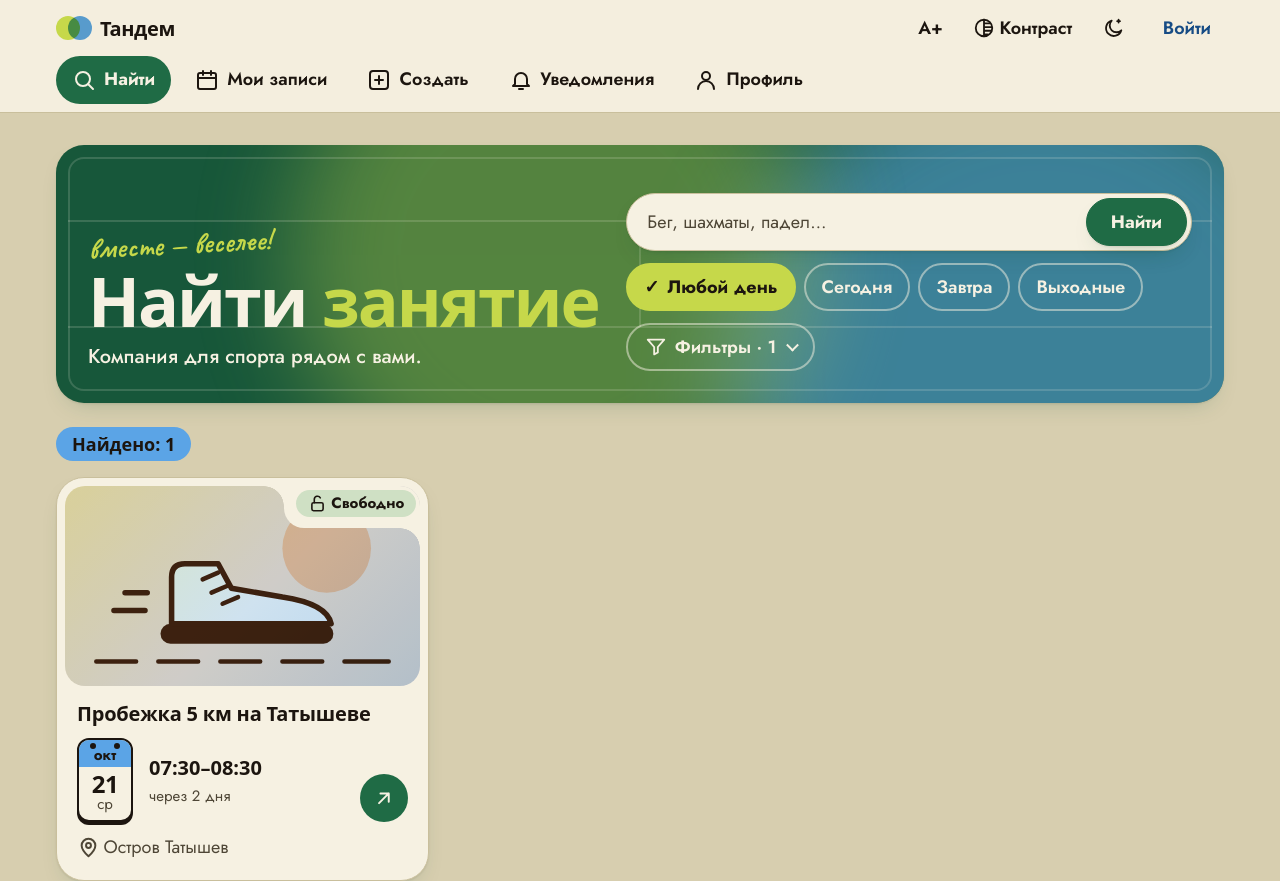
it: лента и поиск › направление из адреса: в запросе id, в поле — название
This screenshot has width=1280, height=881.
Click the heading "Фильтры · 1": (721, 347) [626,323,815,371]
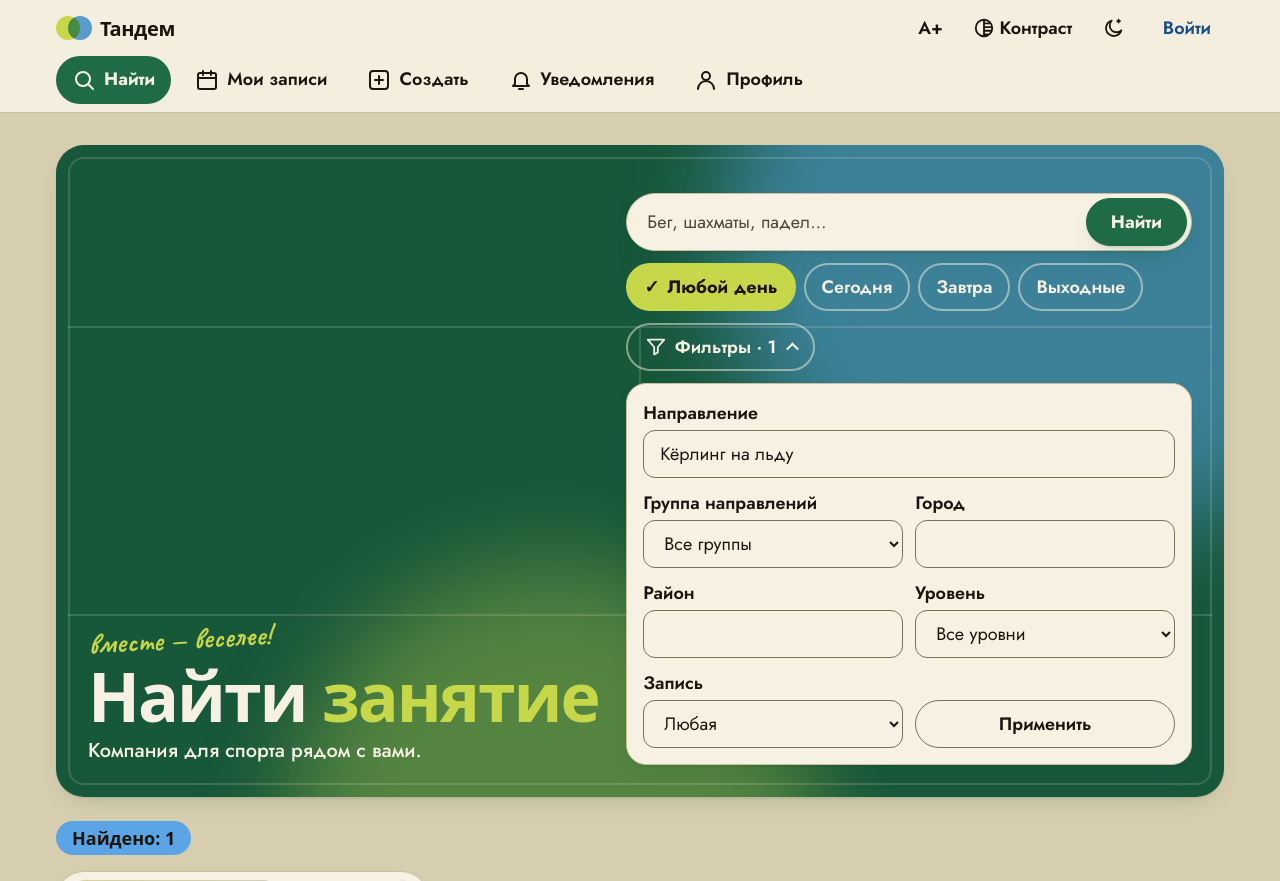
Result: the dropdown labelled "Направление" holds "Кёрлинг на льду" at [643,430,1175,478]
